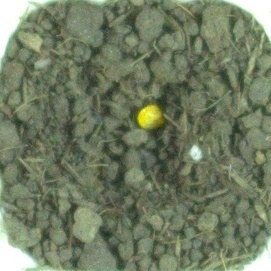pepper seed: (52, 39, 220, 169)
